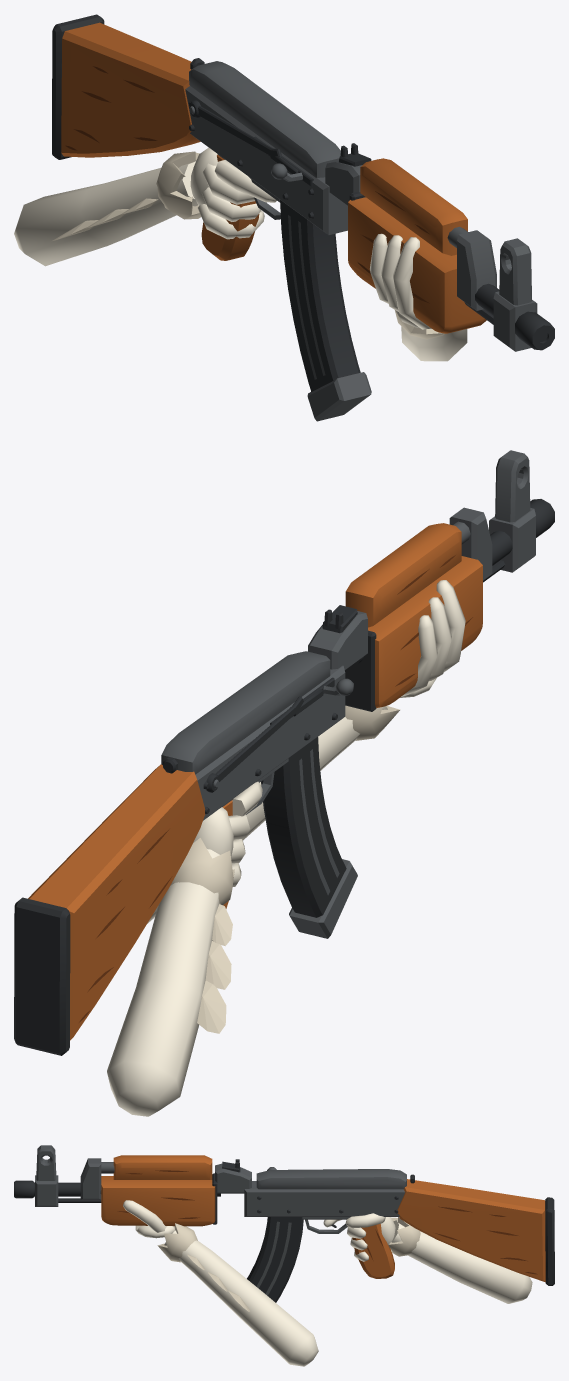
3 views of the same model, one above another, from view 1: azimuth 30°, elevation 25°; view 2: azimuth 150°, elevation 25°; view 3: azimuth 270°, elevation 25° (orthographic). The views are drawn at different scales.
Parts seen in each view (by area): view 1: AR, AR_HandR, AR_Mag, AR_HandL, AR_Bolt; view 2: AR, AR_HandR, AR_Mag, AR_HandL; view 3: AR, AR_HandL, AR_HandR, AR_Mag.
Boxes of the visible parts, left/top/right/bottom form: AR: left=52, top=14, right=554, bottom=351; AR_HandR: left=14, top=147, right=276, bottom=266; AR_Mag: left=280, top=200, right=371, bottom=421; AR_HandL: left=370, top=233, right=467, bottom=361; AR_Bolt: left=270, top=154, right=302, bottom=181; AR: left=14, top=450, right=554, bottom=1055; AR_HandR: left=107, top=781, right=262, bottom=1116; AR_Mag: left=261, top=737, right=357, bottom=938; AR_HandL: left=147, top=580, right=465, bottom=923; AR: left=14, top=1145, right=554, bottom=1285; AR_HandL: left=123, top=1200, right=318, bottom=1366; AR_HandR: left=323, top=1213, right=532, bottom=1303; AR_Mag: left=247, top=1217, right=303, bottom=1302.
Size of the model in its own units: 0.2854 by 0.3203 by 0.878.
